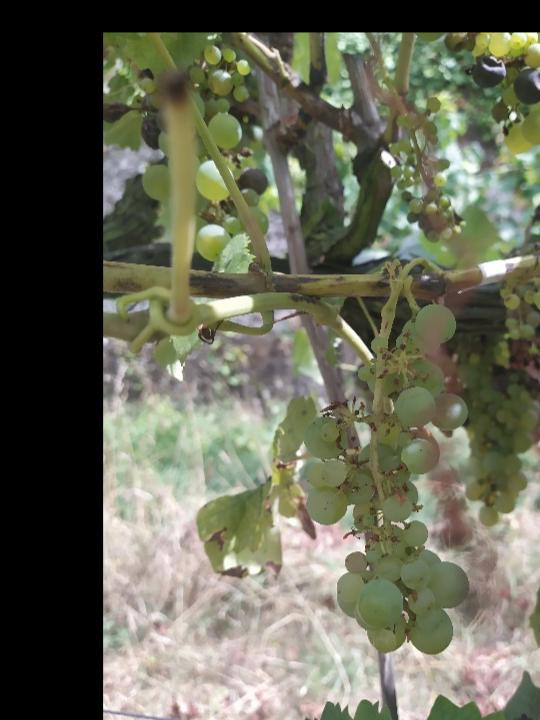grape: (296, 297, 472, 658)
